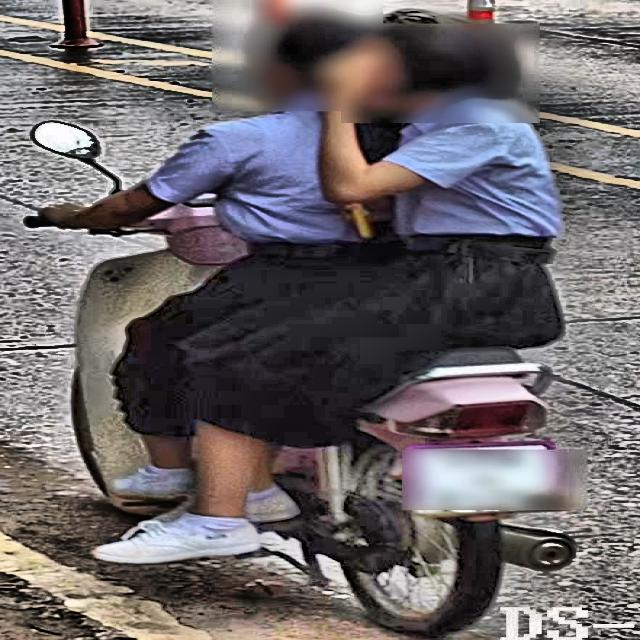motorcycle: (0, 118, 570, 640)
